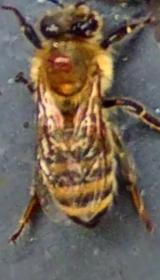varroa_mite: (51, 46, 74, 73)
